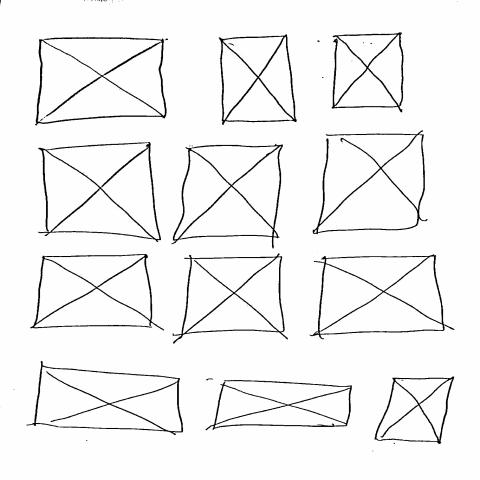Image: (39, 142, 162, 243), (33, 35, 169, 126), (313, 130, 429, 235), (312, 255, 455, 339), (172, 144, 285, 249), (32, 364, 185, 435), (173, 255, 289, 341), (30, 255, 154, 330), (206, 379, 355, 432), (218, 35, 300, 126), (371, 375, 457, 446), (331, 32, 406, 113)
